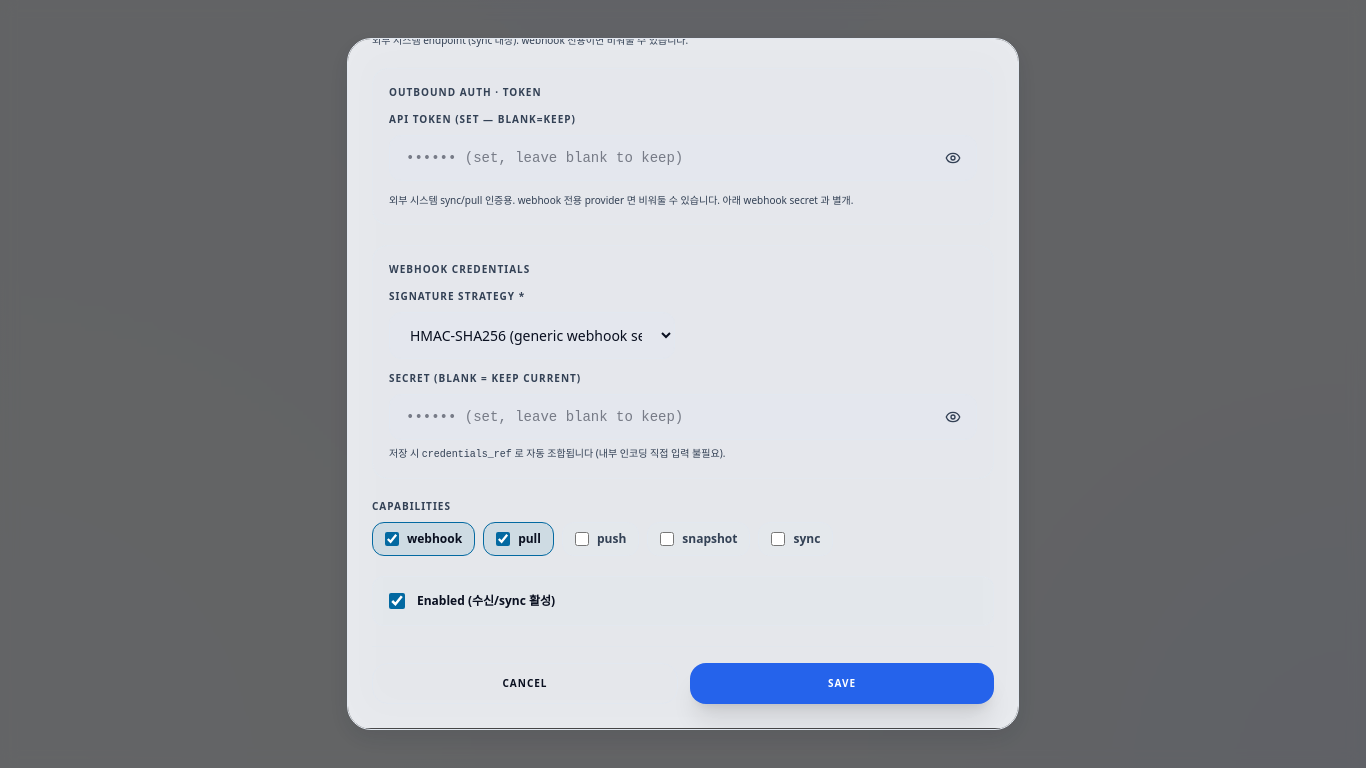
ProviderModal › toggles enabled checkbox in edit mode
(page scrolled)
Click the checkbox labelled "Enabled (수신/sync 활성)".
click(397, 601)  # box [389, 593, 405, 609]
(page scrolled)
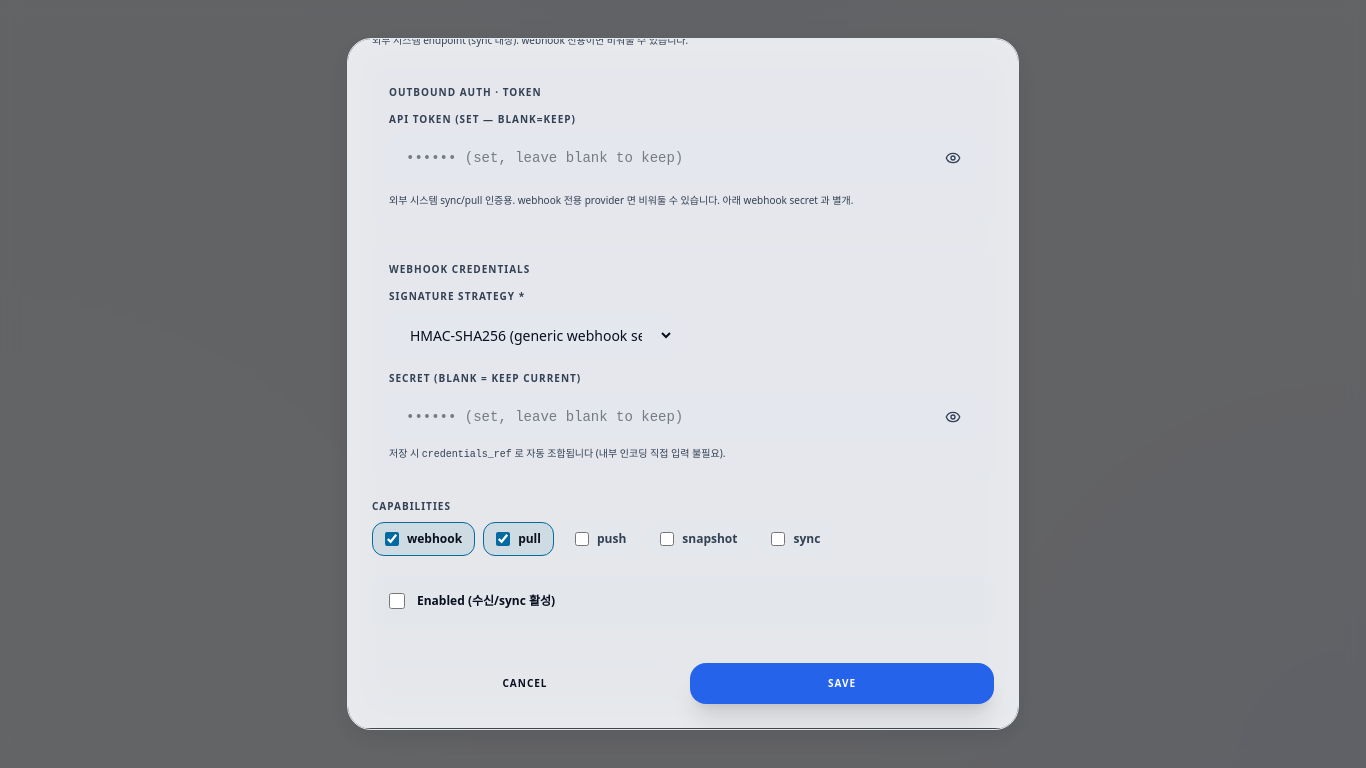
expect the checkbox labelled "Enabled (수신/sync 활성)" is not checked: met, box [389, 593, 405, 609]
